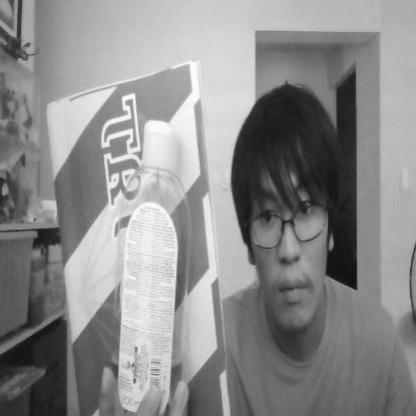Plastic Bottle: (106, 114, 192, 416)
